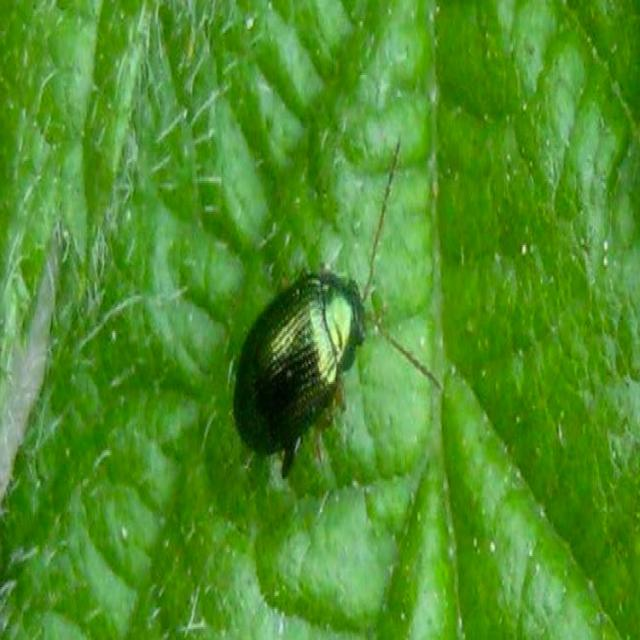flea_beetle: (224, 123, 450, 510)
